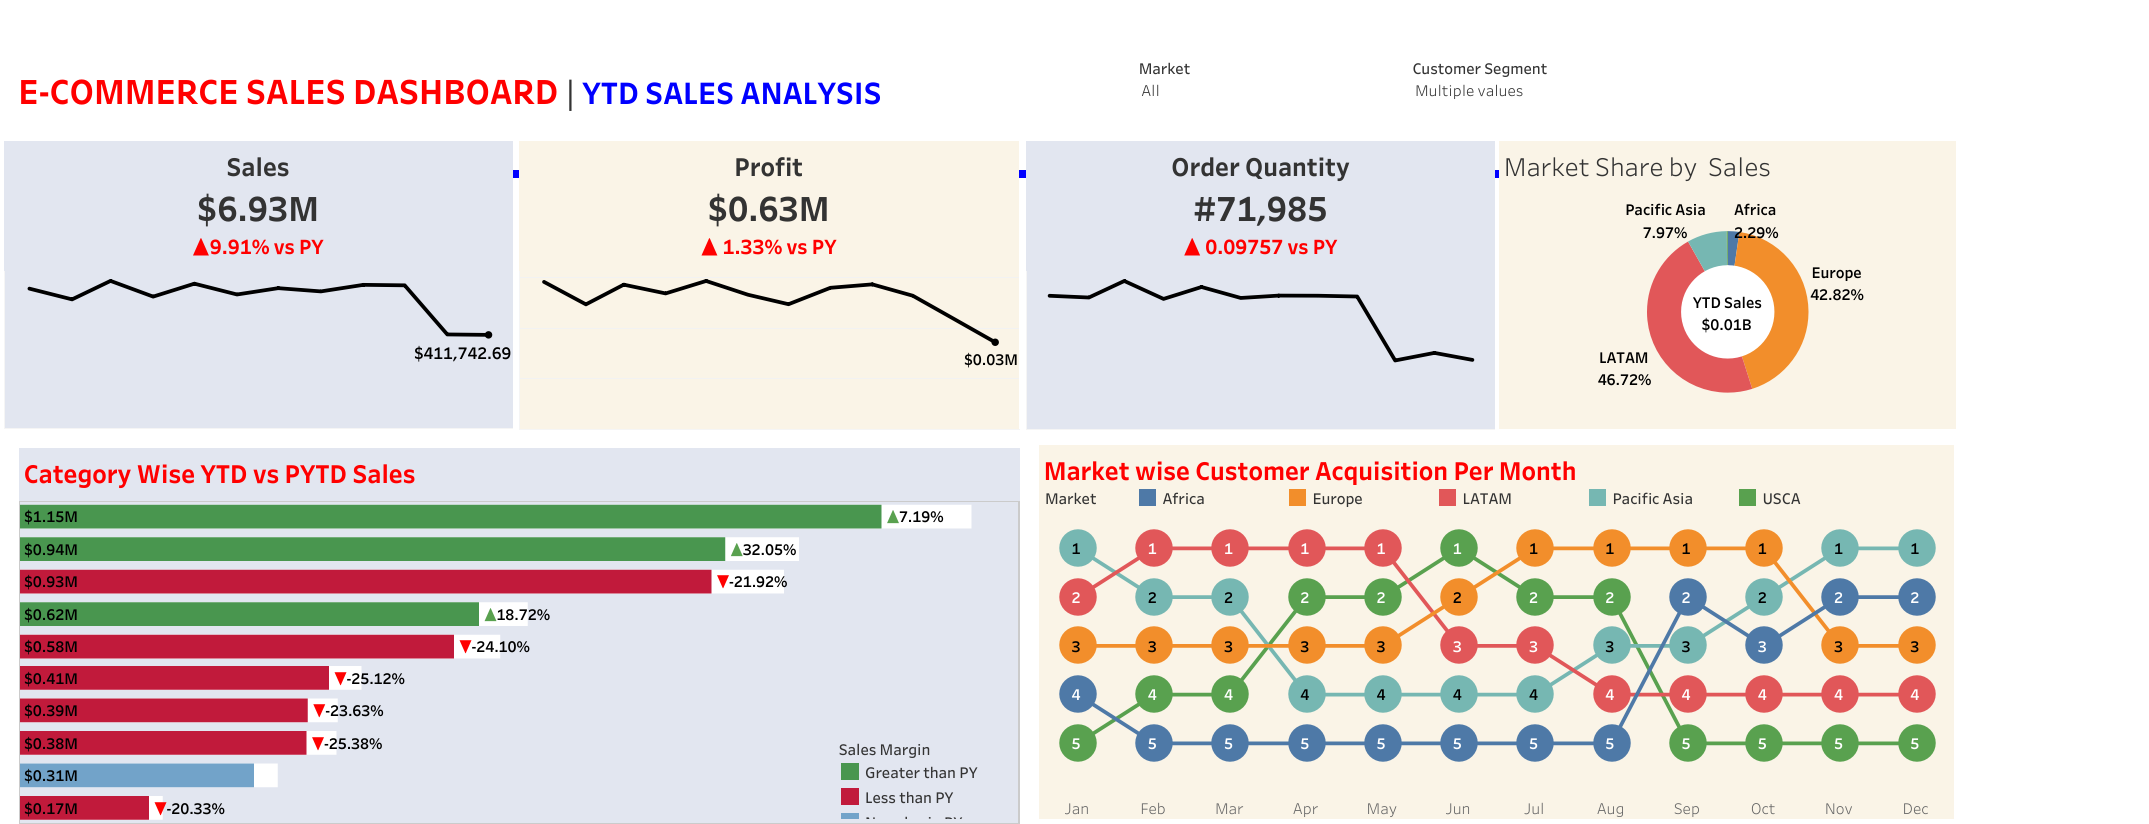

Layout of this report page (visuals, bound fields, positions):
{"tool":"tableau","page":{"name":"Dashboard 1","canvas":[1000,1000],"units":"permille","ordinal":0},"visuals":[{"type":"title","box":[4.7,9.6,897.7,154]},{"type":"filter","title":"Sales KPI","param":"[federated.1p0yyzn1cawoof197i6gr0t187sh].[none:Market:nk]","box":[529.6,66.2,121.5,87.9]},{"type":"filter","title":"Sales KPI","param":"[federated.1p0yyzn1cawoof197i6gr0t187sh].[none:Customer Segment:nk]","box":[657,66.2,132.6,65]},{"type":"blank","box":[4.7,163.7,897.7,7.2]},{"type":"worksheet","title":"Sales KPI","mark":"Automatic","rows":["Sales"],"cols":["Order Date"],"box":[1.9,170.9,236.4,348.8]},{"type":"worksheet","title":"Profit KPI ","mark":"Automatic","rows":["Profit Per Order"],"cols":["Order Date"],"box":[241.4,170.9,232.7,350]},{"type":"worksheet","title":"Order Quantity KPI","mark":"Automatic","rows":["Order Quantity"],"cols":["Order Date"],"box":[477.2,170.9,217.9,350]},{"type":"worksheet","title":"Market Share by  Sales","mark":"Pie","cols":["Calculation_238127896386891791","Calculation_238127896386932753"],"box":[696.9,170.9,213,348.8]},{"type":"worksheet","title":"Market wise Customer Acquisition Per Month","mark":"Automatic","cols":["Order Date"],"box":[483.3,539.5,425.3,453.5]},{"type":"worksheet","title":"Category Wise YTD vs PYTD Sales","mark":"Bar","rows":["Category Name"],"cols":["Calculation_238127896388427794","Calculation_238127896388427794"],"box":[8.6,543,466.1,457]},{"type":"legend","title":"Market wise Customer Acquisition Per Month","param":"[federated.1p0yyzn1cawoof197i6gr0t187sh].[none:Market:nk]","box":[486.1,588.5,416.9,44.5]},{"type":"legend","title":"Category Wise YTD vs PYTD Sales","param":"[federated.1p0yyzn1cawoof197i6gr0t187sh].[usr:Calculation_238127896408600597:nk]","box":[389.5,890.5,81.4,102.3]}]}

Visuals, with their boxes on the dashboard's canvas, which has no fixed pixel size, in thousandths of its width and height (x1, y1, x2, y2). These are canvas units, not pixel positions in the 2149x824 screenshot, which may show the page scaled, cropped or inside an application window:
title: detection(5, 10, 902, 164)
"Sales KPI" filter: detection(530, 66, 651, 154)
"Sales KPI" filter: detection(657, 66, 790, 131)
blank: detection(5, 164, 902, 171)
"Sales KPI" worksheet: detection(2, 171, 238, 520)
"Profit KPI " worksheet: detection(241, 171, 474, 521)
"Order Quantity KPI" worksheet: detection(477, 171, 695, 521)
"Market Share by  Sales" worksheet (Pie marks): detection(697, 171, 910, 520)
"Market wise Customer Acquisition Per Month" worksheet: detection(483, 540, 909, 993)
"Category Wise YTD vs PYTD Sales" worksheet (Bar marks): detection(9, 543, 475, 1000)
"Market wise Customer Acquisition Per Month" legend: detection(486, 588, 903, 633)
"Category Wise YTD vs PYTD Sales" legend: detection(390, 890, 471, 993)
